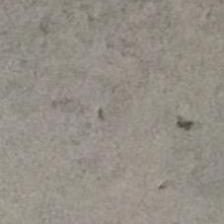Non_Crack: (31, 48, 202, 191)
